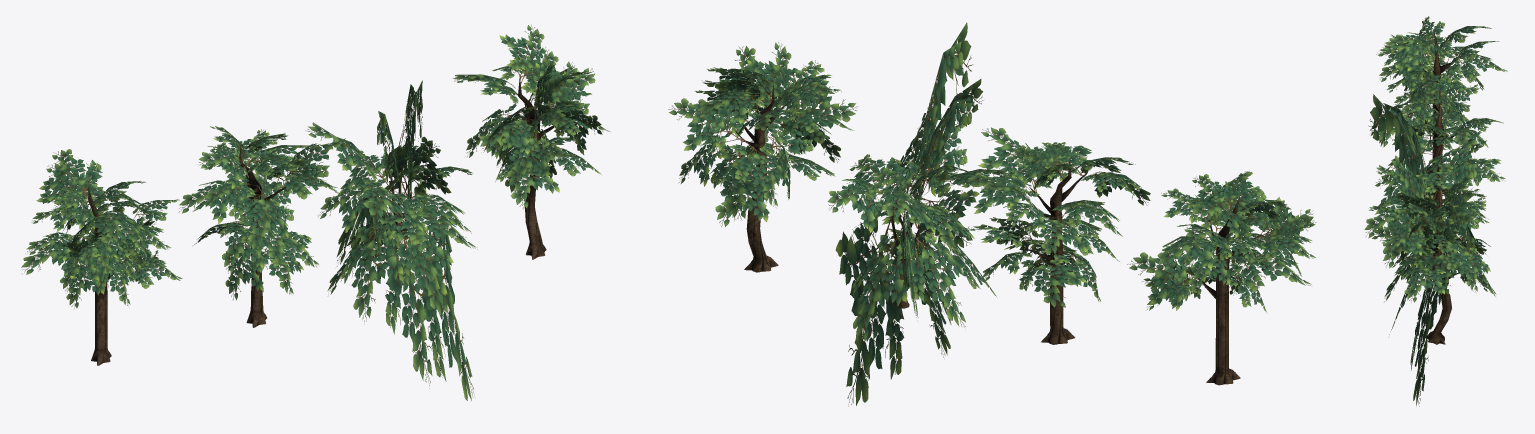
File: JOSH_TREES_LINNKED.FBX
3 renders of one model, left to right at view 1: azimuth 30°, elevation 25°; view 2: azimuth 150°, elevation 25°; view 3: azimuth 270°, elevation 25°, orthographic. The views are drawn at different scales.
Visible parts, largest first — view 1: Plane070, Plane065, Plane069, Plane060, Plane038, Plane059, Plane016, Plane092, Plane097, Cylinder003, Plane064, Cylinder001 (+41 smaller); view 2: Plane065, Plane061, Plane062, Plane074, Cylinder001, Cylinder002, Plane087, Plane068, Plane024, Plane106, Plane028, Cylinder003 (+40 smaller); view 3: Plane074, Plane065, Plane055, Plane086, Plane083, Cylinder003, Plane105, Plane095, Plane059, Plane030, Plane098, Plane089 (+55 smaller).
Part boxes in pixels (<box>): Plane070: <box>382,212,447,388</box>; Plane065: <box>402,177,473,400</box>; Plane069: <box>341,220,403,321</box>; Plane060: <box>388,215,453,320</box>; Plane038: <box>228,186,288,256</box>; Plane059: <box>384,136,451,205</box>; Plane016: <box>39,149,105,201</box>; Plane092: <box>499,118,549,189</box>; Plane097: <box>499,24,550,91</box>; Cylinder003: <box>518,76,555,259</box>; Plane064: <box>380,208,477,249</box>; Cylinder001: <box>78,187,134,365</box>; Plane065: <box>835,196,908,406</box>; Plane061: <box>853,226,909,347</box>; Plane062: <box>896,226,965,327</box>; Plane074: <box>917,22,973,196</box>; Cylinder001: <box>1190,196,1261,385</box>; Cylinder002: <box>1024,157,1088,344</box>; Plane087: <box>668,97,745,150</box>; Plane068: <box>921,79,983,179</box>; Plane024: <box>1127,243,1203,304</box>; Plane106: <box>780,74,858,143</box>; Plane028: <box>1019,254,1087,309</box>; Cylinder003: <box>735,85,789,272</box>; Plane074: <box>1368,94,1427,200</box>; Plane065: <box>1410,226,1449,406</box>; Plane055: <box>1425,139,1477,203</box>; Plane086: <box>1446,239,1490,291</box>; Plane083: <box>1401,261,1445,302</box>; Cylinder003: <box>1415,196,1464,344</box>; Plane105: <box>1370,208,1423,258</box>; Plane095: <box>1419,243,1468,297</box>; Plane059: <box>1389,155,1436,226</box>; Plane030: <box>1409,68,1451,108</box>; Plane098: <box>1415,163,1464,202</box>; Plane089: <box>1383,225,1424,255</box>.
Size of the model in its own units: 2191 by 1324 by 655.
